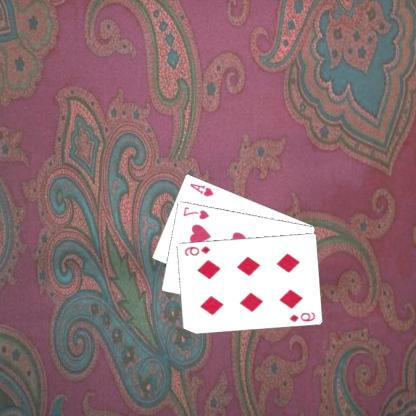6D: (183, 244, 213, 258), (288, 310, 318, 324)
7H: (182, 204, 212, 220)
AH: (189, 180, 217, 198)
